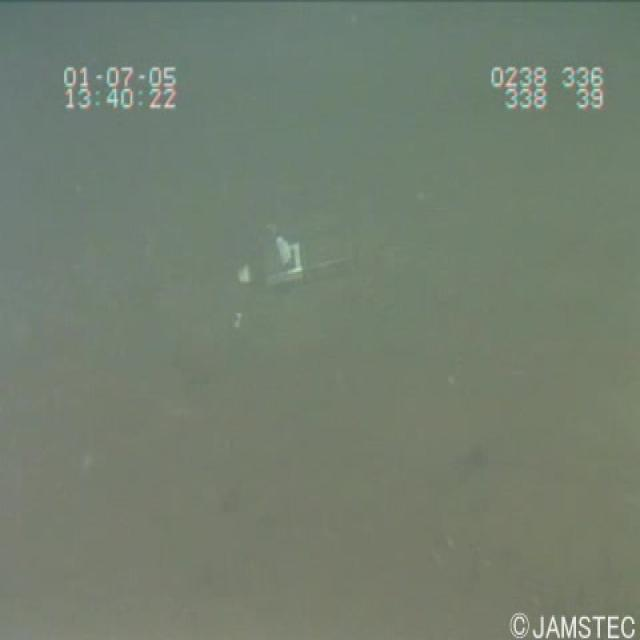plastic: (222, 217, 366, 304)
